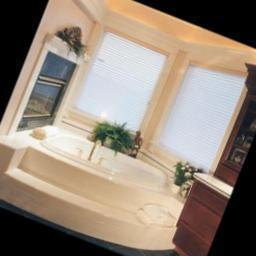Armario: (168, 62, 256, 256)
